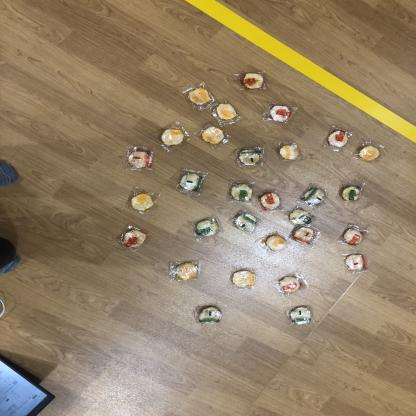green_setoshio: (174, 168, 207, 196), (192, 216, 224, 241), (192, 304, 224, 327), (298, 184, 328, 207), (234, 146, 265, 168), (228, 180, 256, 204), (285, 206, 316, 227), (338, 179, 364, 204), (230, 212, 261, 232), (288, 304, 315, 326)
red_setoshio: (116, 225, 151, 254), (262, 101, 300, 127), (273, 270, 309, 296), (123, 146, 156, 173), (339, 224, 371, 247), (324, 127, 354, 151), (290, 226, 324, 247), (237, 69, 268, 92), (258, 190, 286, 214), (343, 252, 368, 273)
yellow_setoshio: (149, 119, 192, 151), (125, 186, 160, 216), (165, 258, 203, 284), (180, 82, 215, 110), (196, 122, 230, 148), (210, 101, 243, 125), (228, 266, 258, 291), (355, 140, 385, 164), (273, 140, 305, 162), (261, 231, 289, 254)
